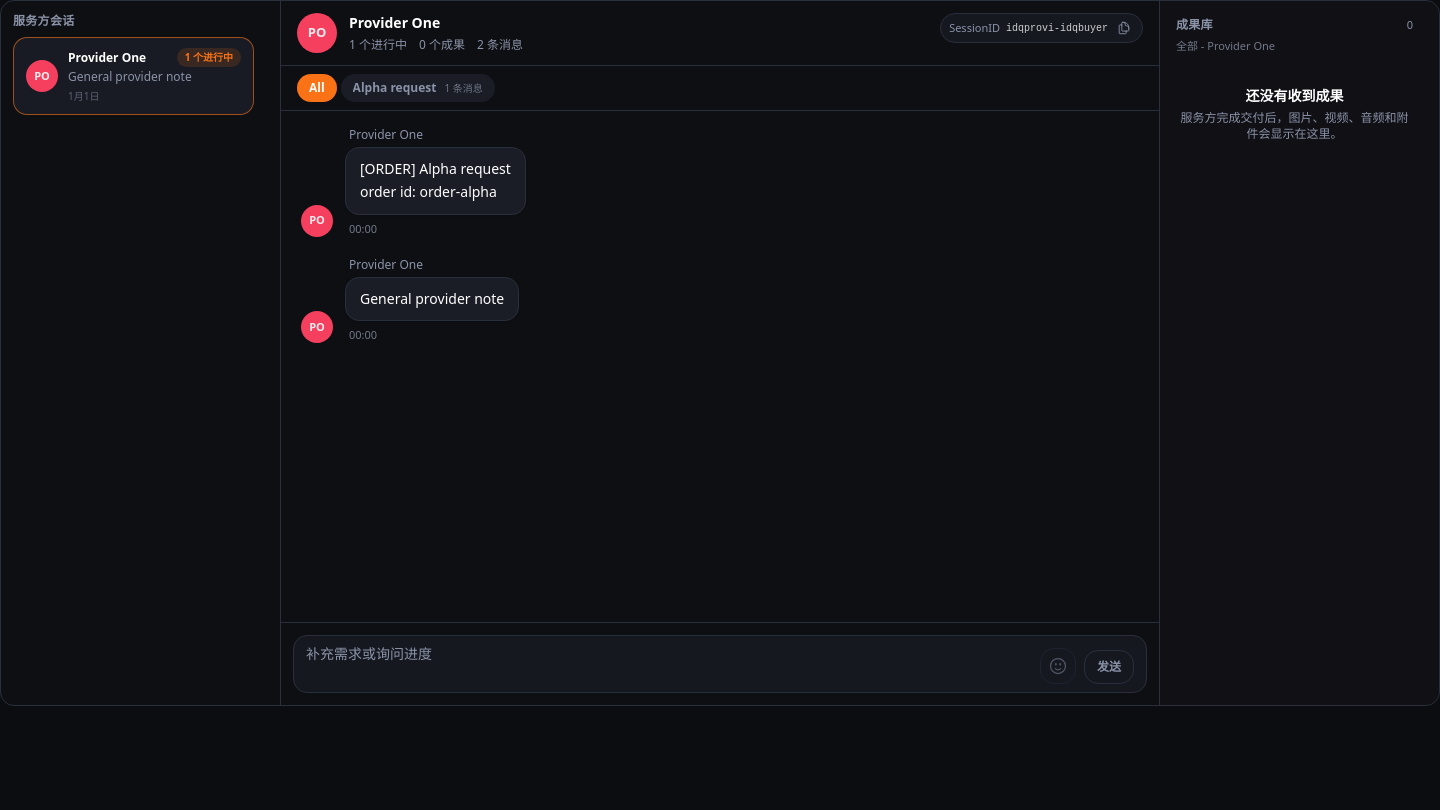
Test case: DeliveryPage layout › shows the composer only in All and sends All follow-ups without an order correlation
In the text box labelled "补充需求或询问进度": (669, 664) [306,644,1032,684], type "Please continue in general chat."
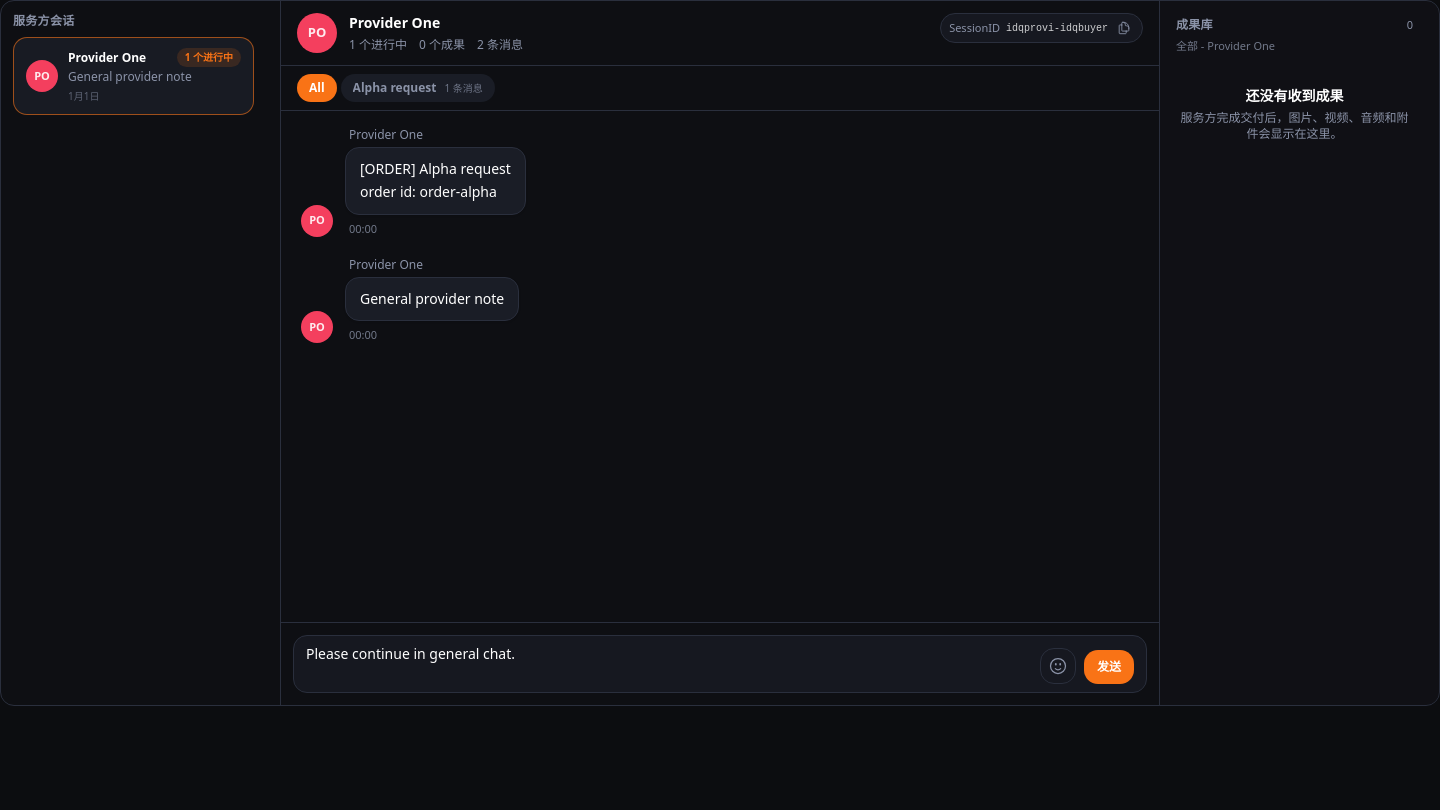
Check: the button "发送" is enabled
Click the button "发送": (1109, 667) [1084,650,1134,684]
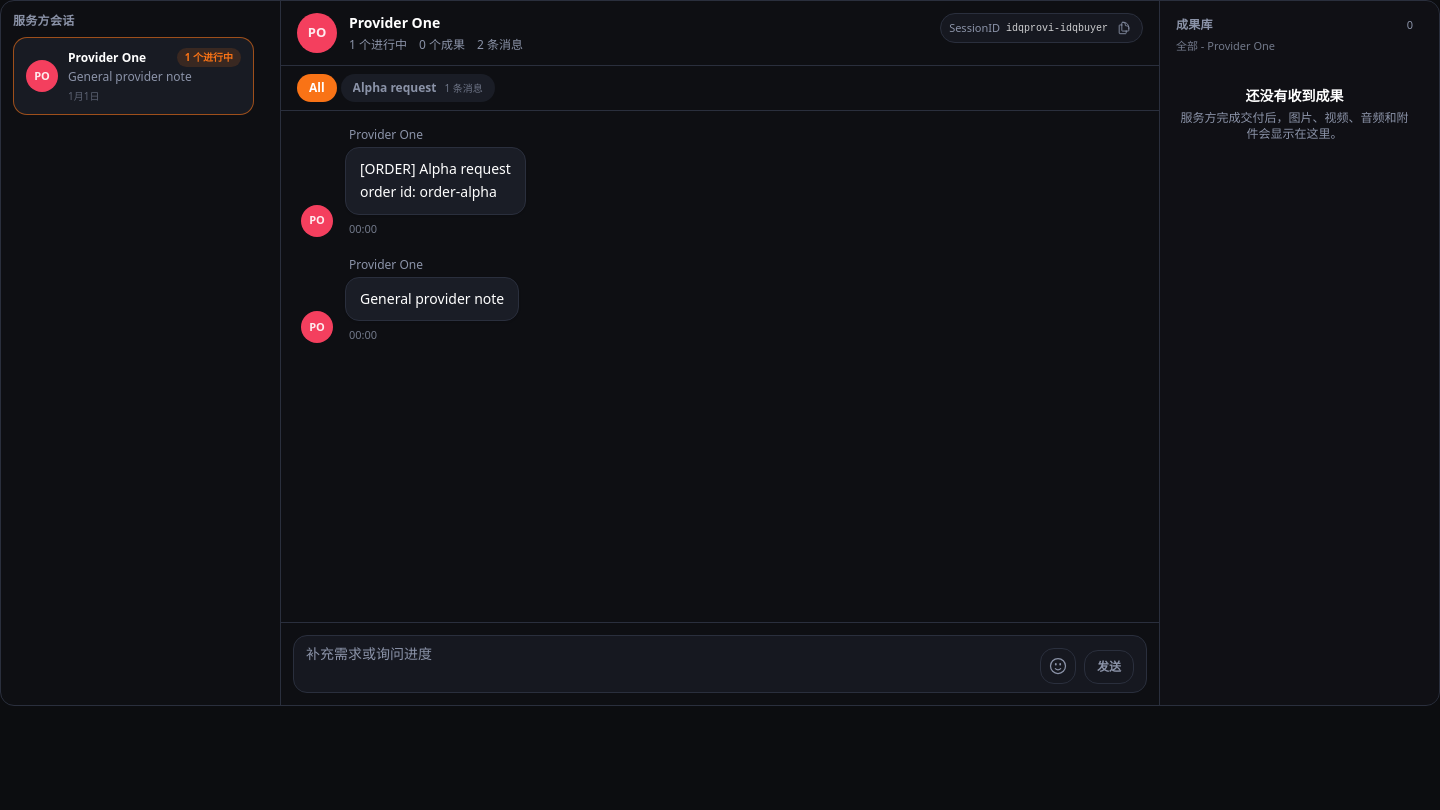
Click the tab "Alpha request 1 条消息": (418, 88) [341,74,495,102]
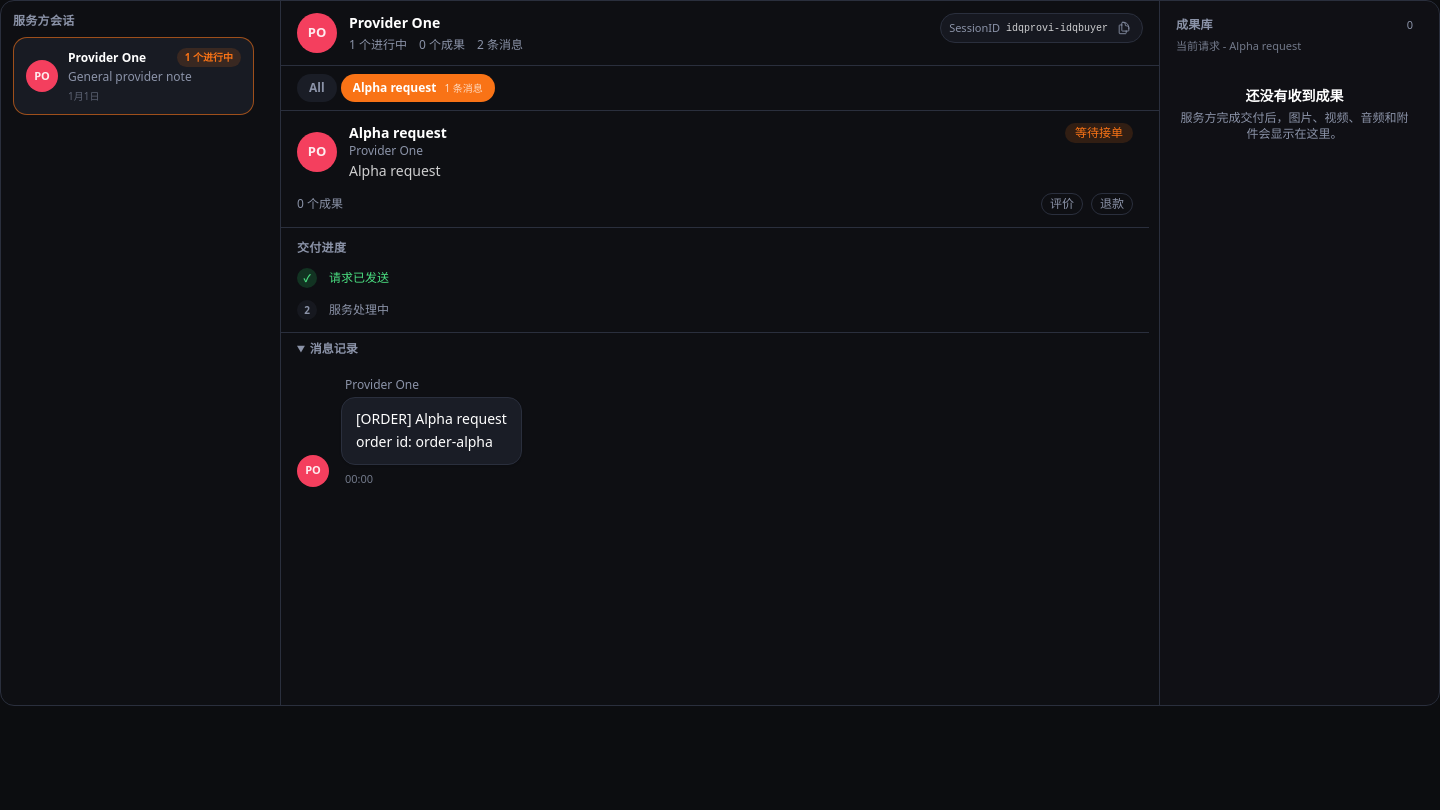
Check: the text box labelled "补充需求或询问进度" is gone
